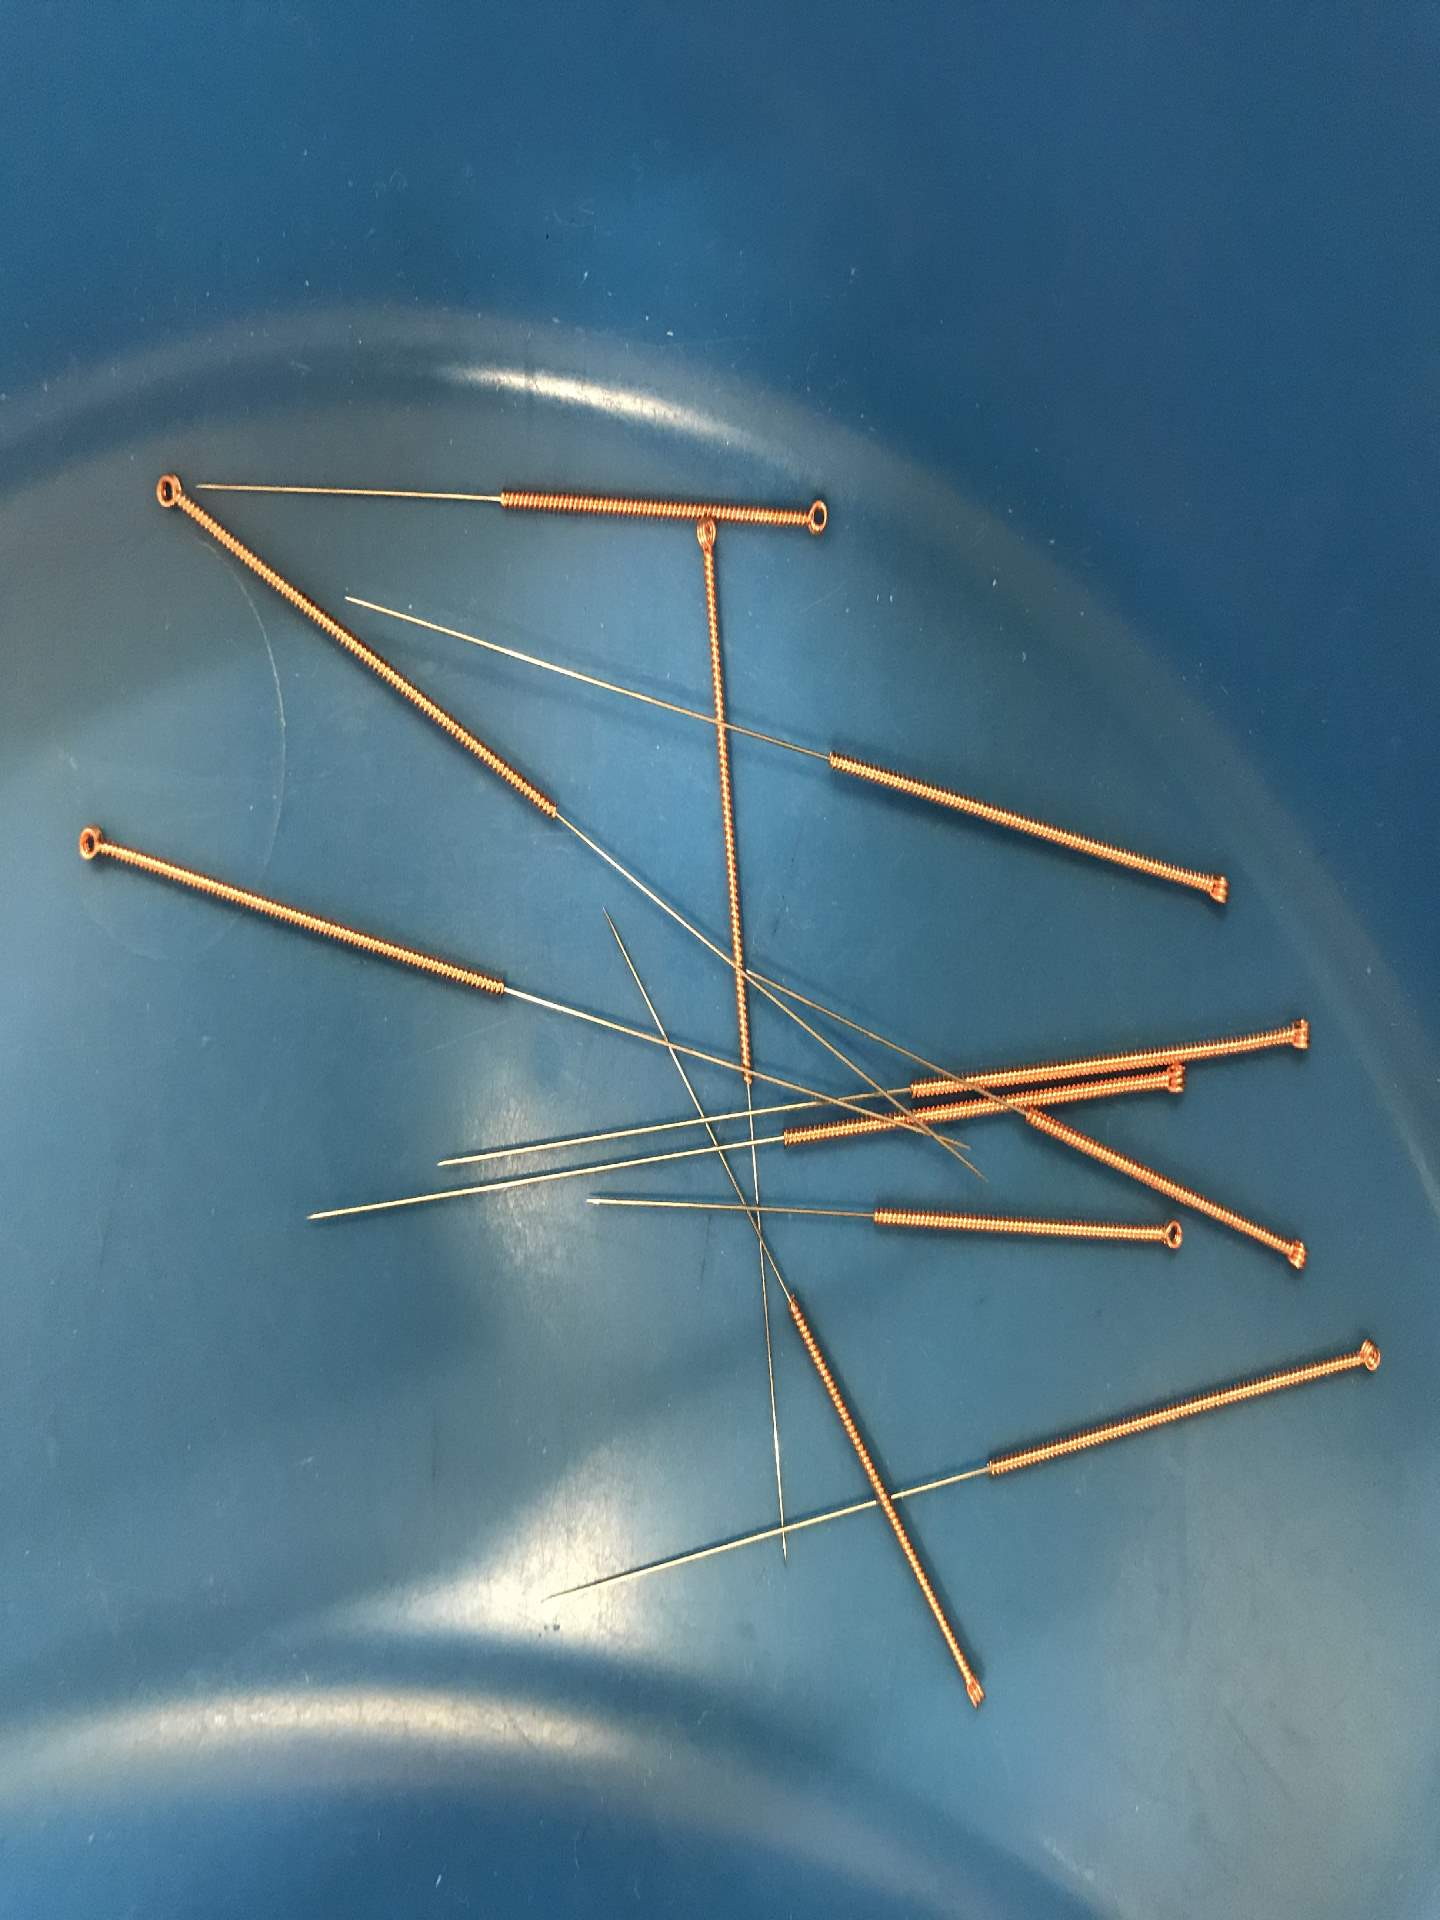needle: (782, 481, 843, 550), (61, 810, 119, 880), (141, 458, 200, 526), (1266, 1004, 1324, 1063), (1190, 857, 1243, 921), (948, 1660, 1000, 1723), (1268, 1228, 1321, 1284), (1340, 1326, 1392, 1383), (1147, 1209, 1195, 1261), (1150, 1058, 1199, 1107), (687, 511, 726, 568)
